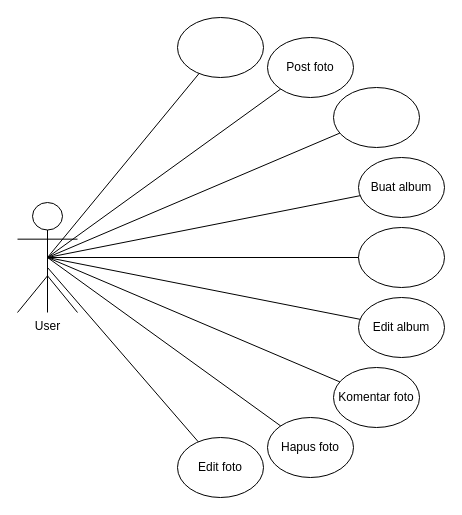
Image size: 462x515. Some labels were removed from this diagram. Here are the shapes that lost their labels. From the top down, the box of each, then its label:
(176, 16, 264, 78): Buat akun
(332, 86, 420, 148): Like foto
(358, 226, 444, 288): Hapus album
